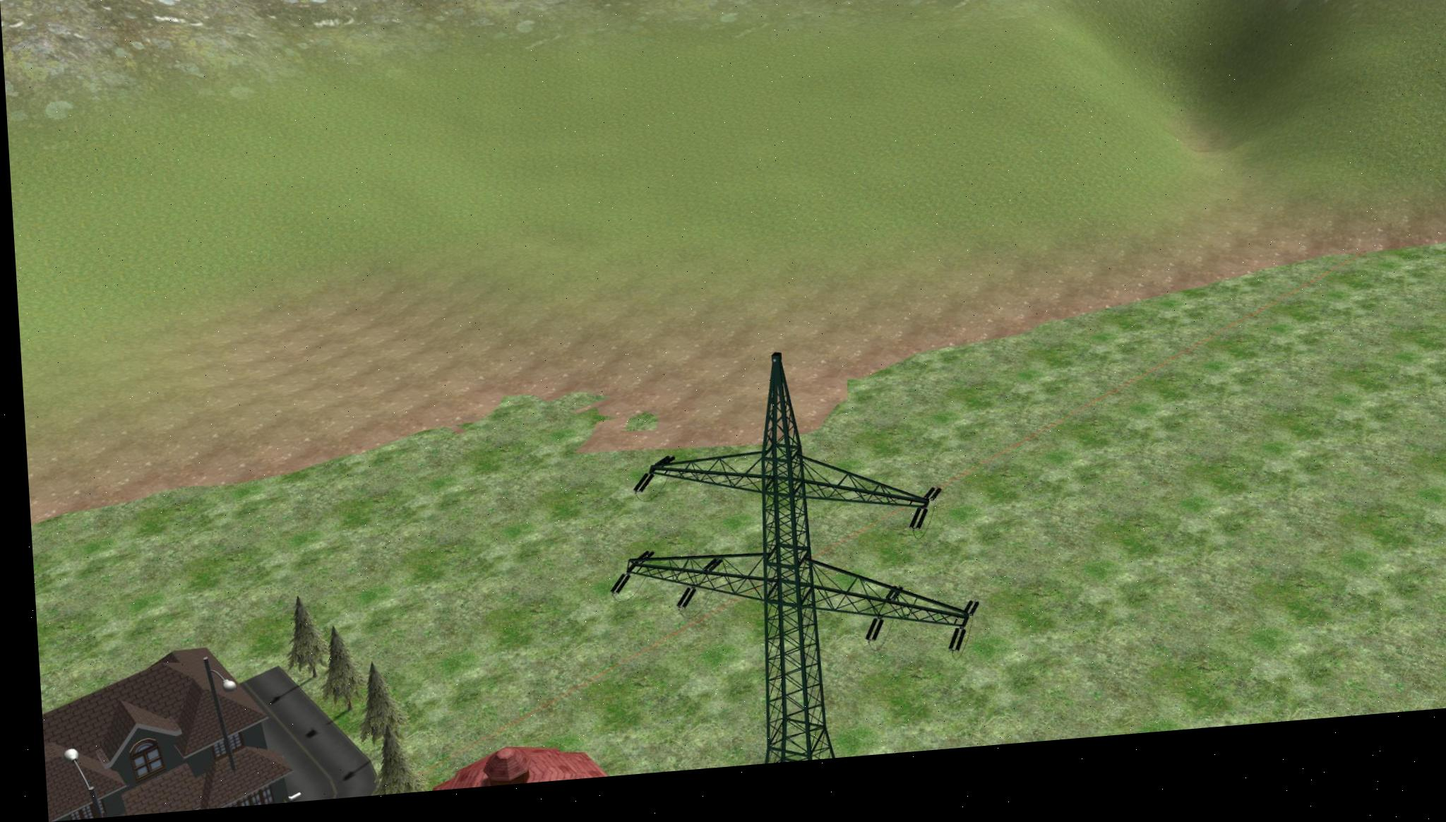tower: (615, 338, 986, 774)
